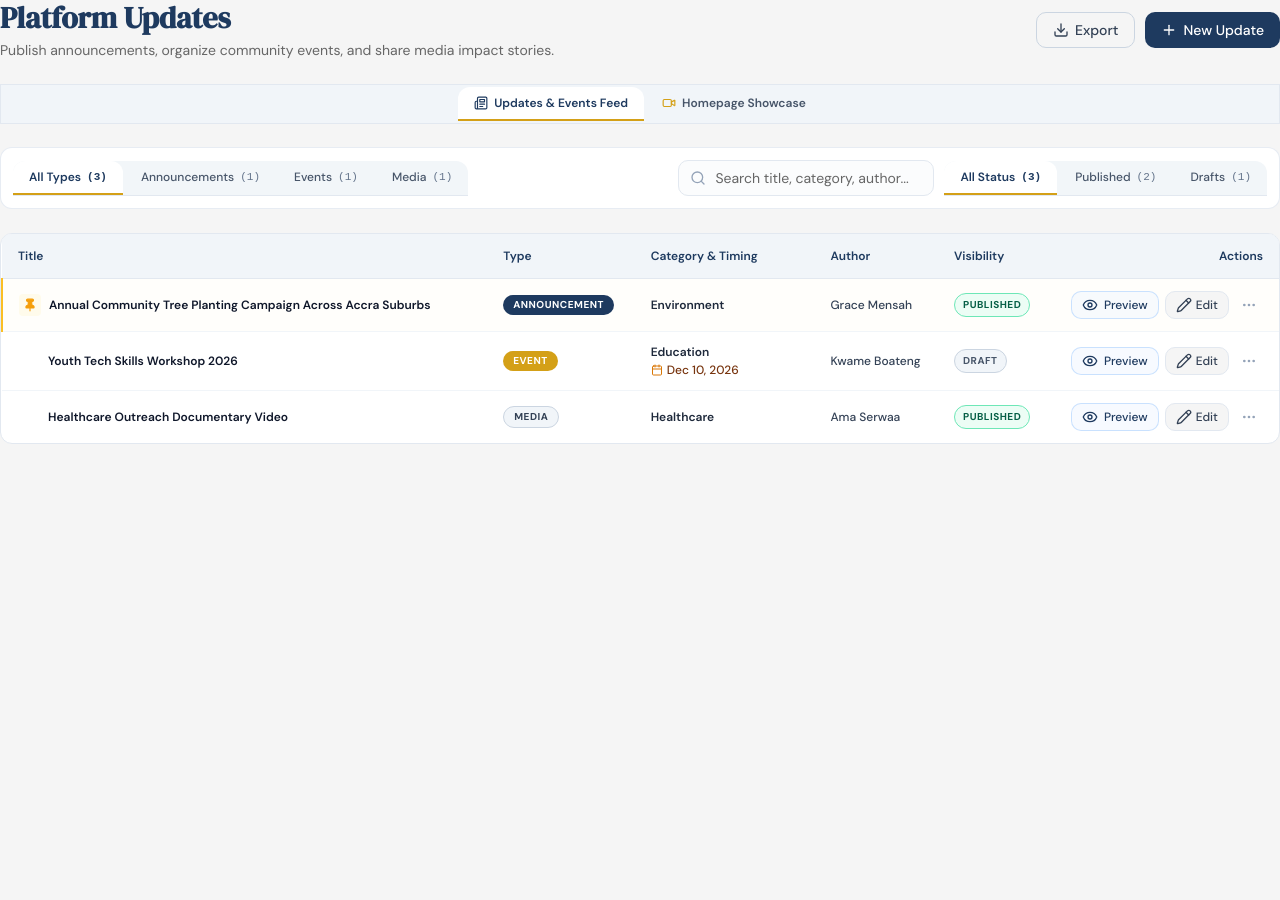
Test case: Admin Platform Updates Page UX Refinements › reduces action-column clutter with Preview, Edit, and overflow menu for Delete
The image size is (1280, 900).
Expected: the button "Annual Community Tree Planting Campaign Across Accra Suburbs" is shown, [49,296,430,312]
Expected: the button named "preview \"" is shown, [1071,290,1159,318]
Press Enter in the button named "more options for \"", box [1235,290,1263,318]
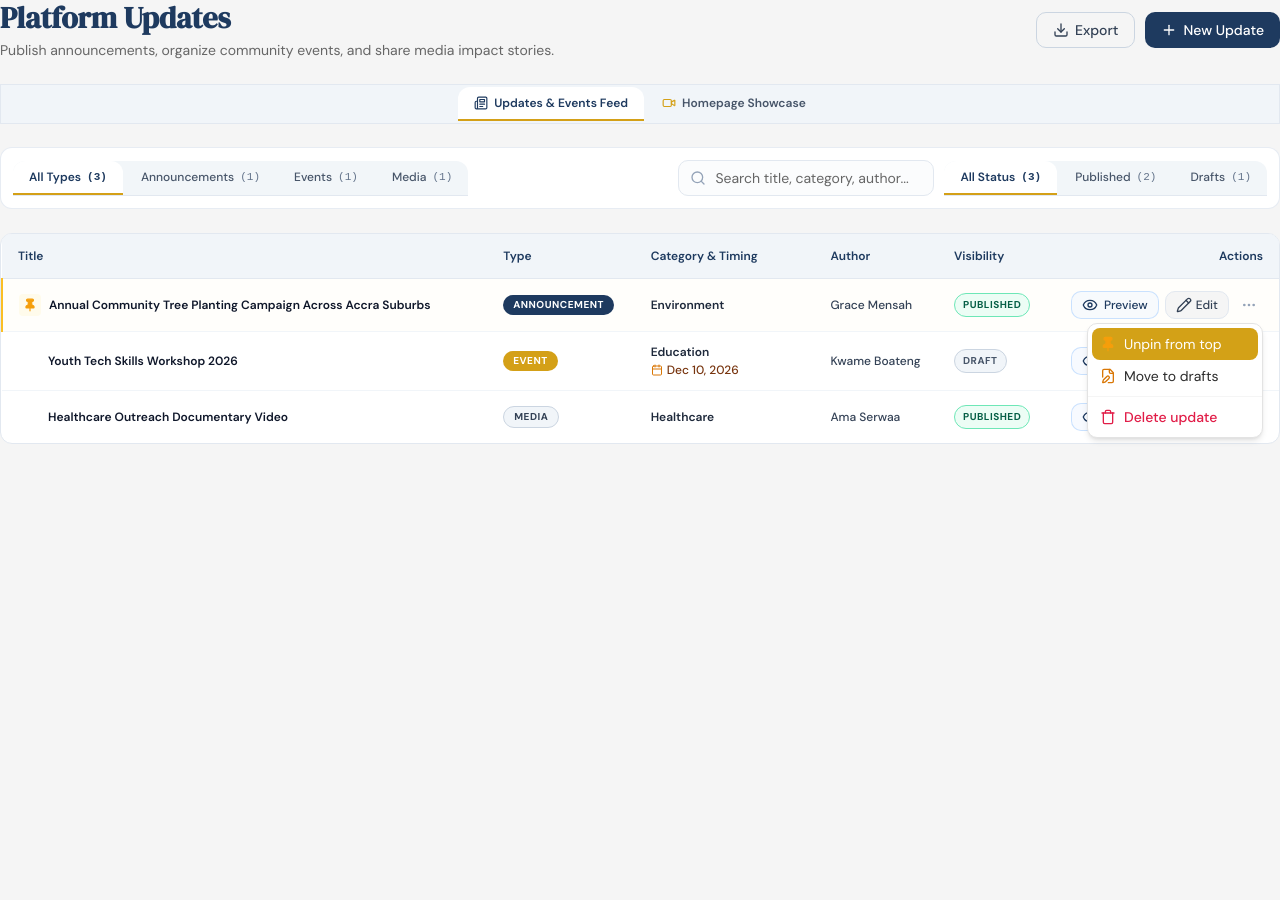
Expected: the menu item "Delete update" is shown
Clicking delete option opens confirmation dialog
Click the menu item "Delete update". click: (1159, 417)
box: [1100,408,1218,426]
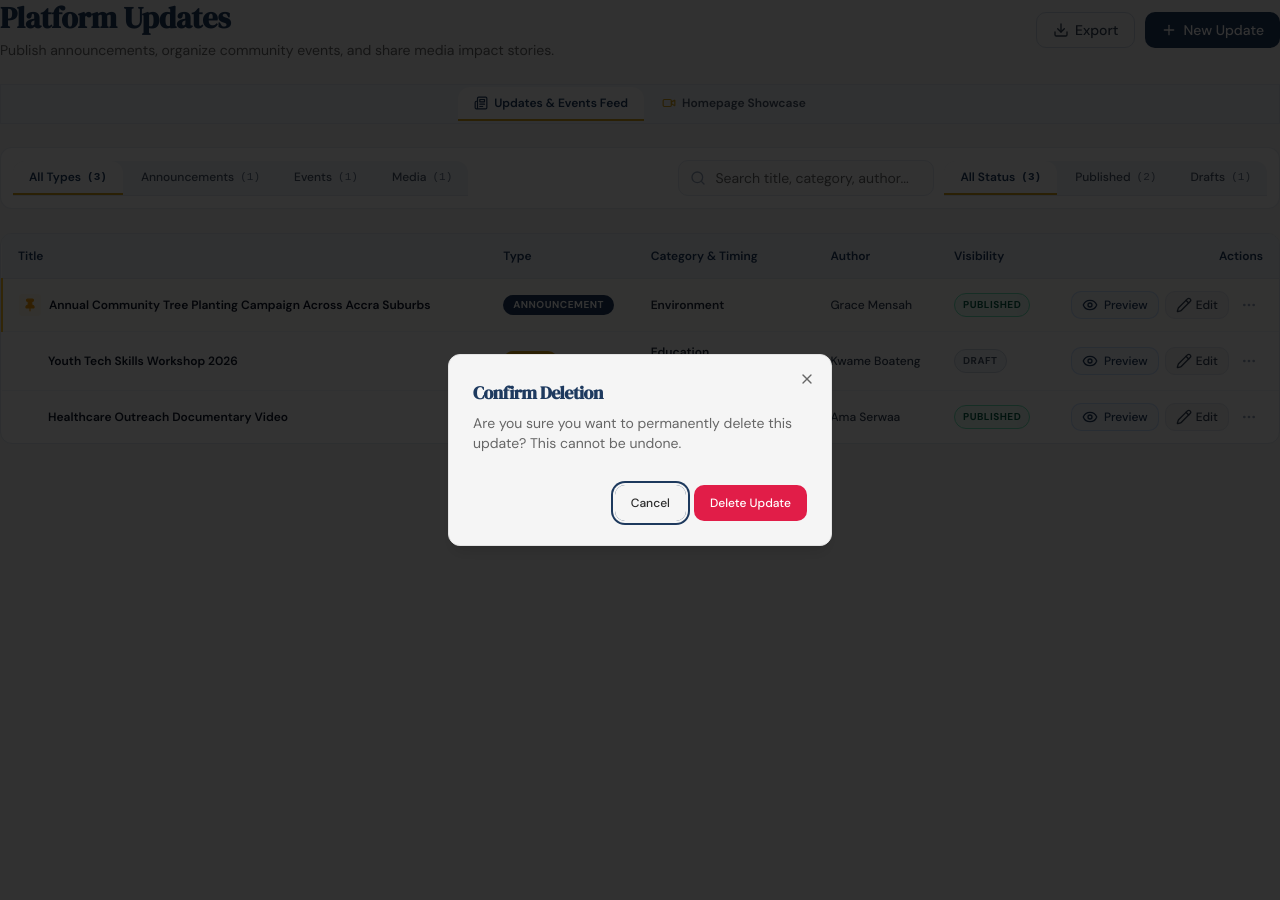
Expected: the button "Delete Update" is shown, [694,485,807,521]
Expected: the dialog is shown, [448,354,832,546]
Expected: the heading "Confirm Deletion" is shown, [473,380,603,405]
